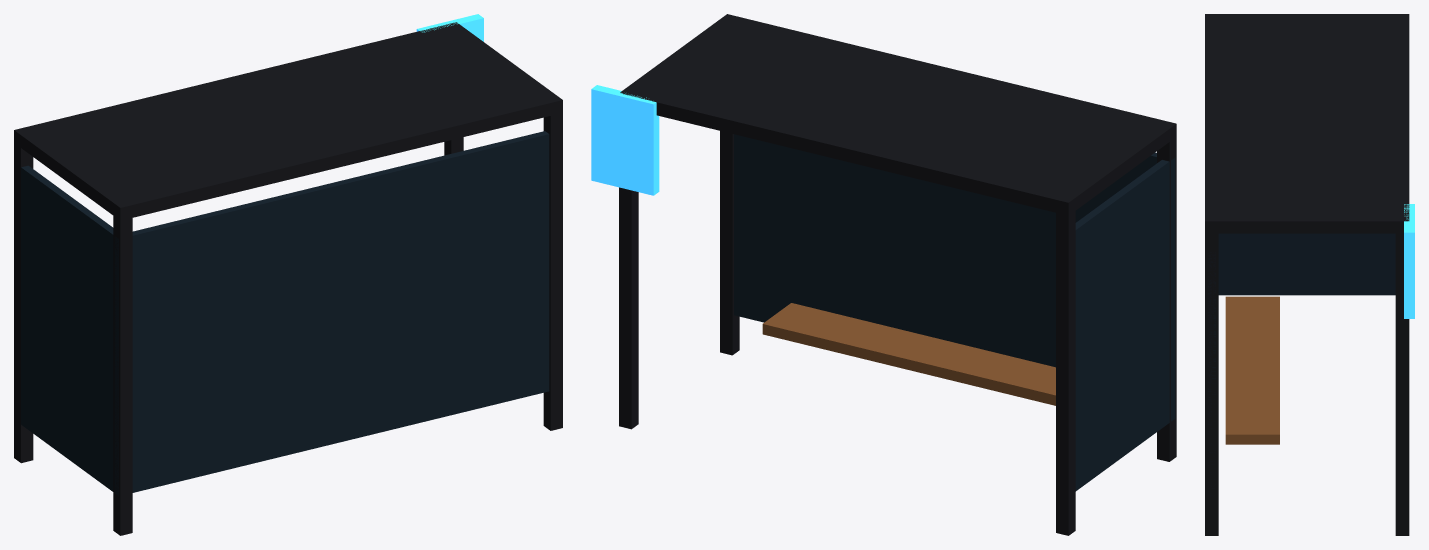
File: prop_bus_stop.glb
The picture shows the model from 3 angles, left to right: view 1: azimuth 30°, elevation 25°; view 2: azimuth 150°, elevation 25°; view 3: azimuth 270°, elevation 25°; orthographic projection. The views are drawn at different scales.
Visible parts, largest first — view 1: prop_bus_stop__mesh; view 2: prop_bus_stop__mesh; view 3: prop_bus_stop__mesh.
Part boxes in pixels (left/top/right/bottom): prop_bus_stop__mesh: left=14, top=14, right=562, bottom=535; prop_bus_stop__mesh: left=591, top=14, right=1176, bottom=535; prop_bus_stop__mesh: left=1205, top=14, right=1414, bottom=535.
Size of the model in its own units: 3.8 by 2.55 by 1.54.
